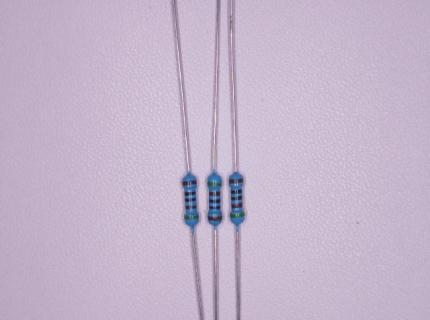Black band: (231, 195, 243, 201), (184, 191, 196, 196), (230, 189, 242, 194), (185, 197, 196, 202), (209, 199, 220, 204), (209, 206, 220, 210)
Brown band: (182, 180, 197, 186), (208, 215, 223, 221), (229, 178, 244, 184), (231, 202, 243, 209), (209, 191, 221, 196), (185, 205, 197, 209)
Green band: (230, 212, 245, 218), (207, 181, 222, 186), (184, 215, 199, 220)
